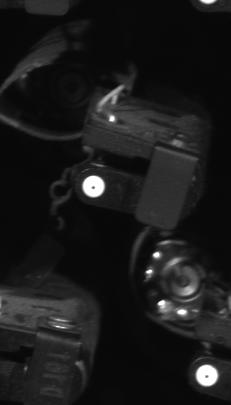fiber: (192, 360, 222, 391), (80, 173, 109, 200)
